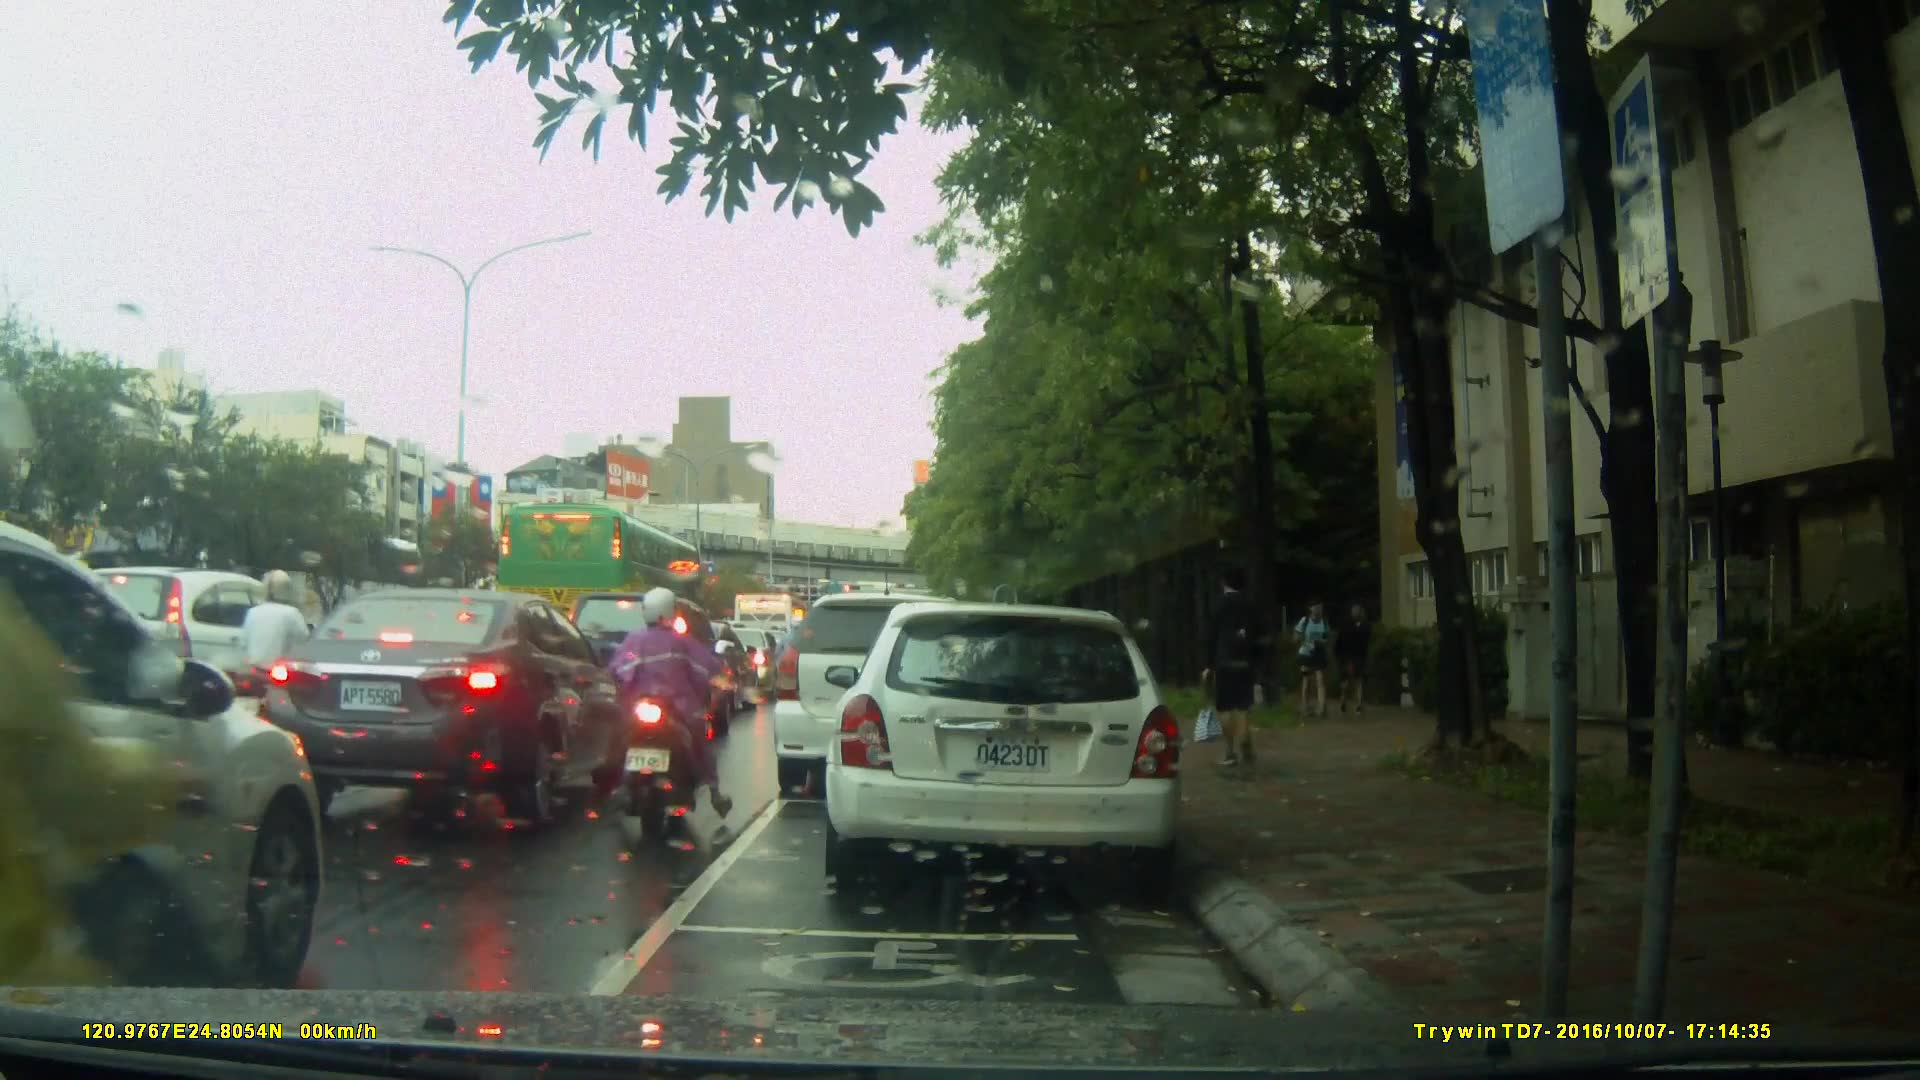pedestrian: (1199, 568, 1274, 772), (1295, 592, 1349, 720), (1332, 597, 1372, 713)
rider: (617, 584, 728, 837), (236, 567, 343, 769), (770, 612, 809, 707)
vehicle: (1, 521, 327, 986), (831, 592, 1196, 897), (252, 585, 632, 831), (23, 562, 325, 760), (770, 592, 999, 799), (495, 501, 707, 645), (548, 588, 730, 742)
